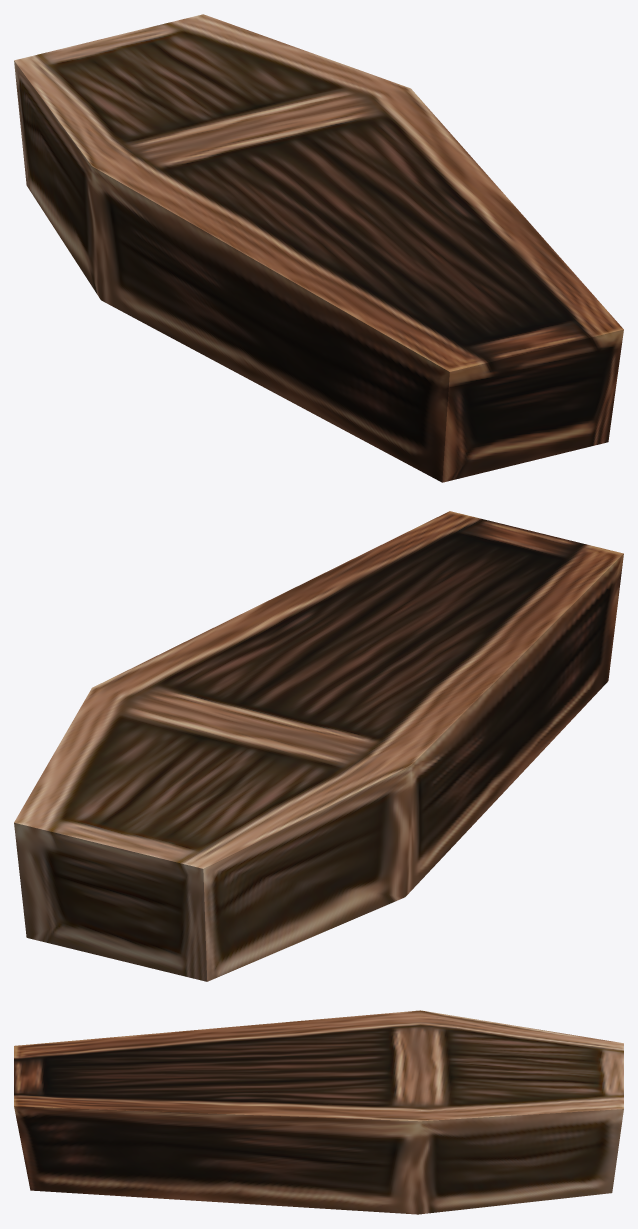
Rendered from Vampire_Village_Props_09.FBX.
3 renders of one model, top to bottom at view 1: azimuth 30°, elevation 25°; view 2: azimuth 150°, elevation 25°; view 3: azimuth 270°, elevation 25°, orthographic. The views are drawn at different scales.
Visible parts, largest first — view 1: Vampire_Village_Props_09; view 2: Vampire_Village_Props_09; view 3: Vampire_Village_Props_09.
Boxes of the visible parts, x1,y1,x2,y2 form: Vampire_Village_Props_09: (14, 14, 623, 482); Vampire_Village_Props_09: (14, 511, 623, 981); Vampire_Village_Props_09: (14, 1010, 623, 1214).
Size of the model in its own units: 99.65 by 40.18 by 232.
